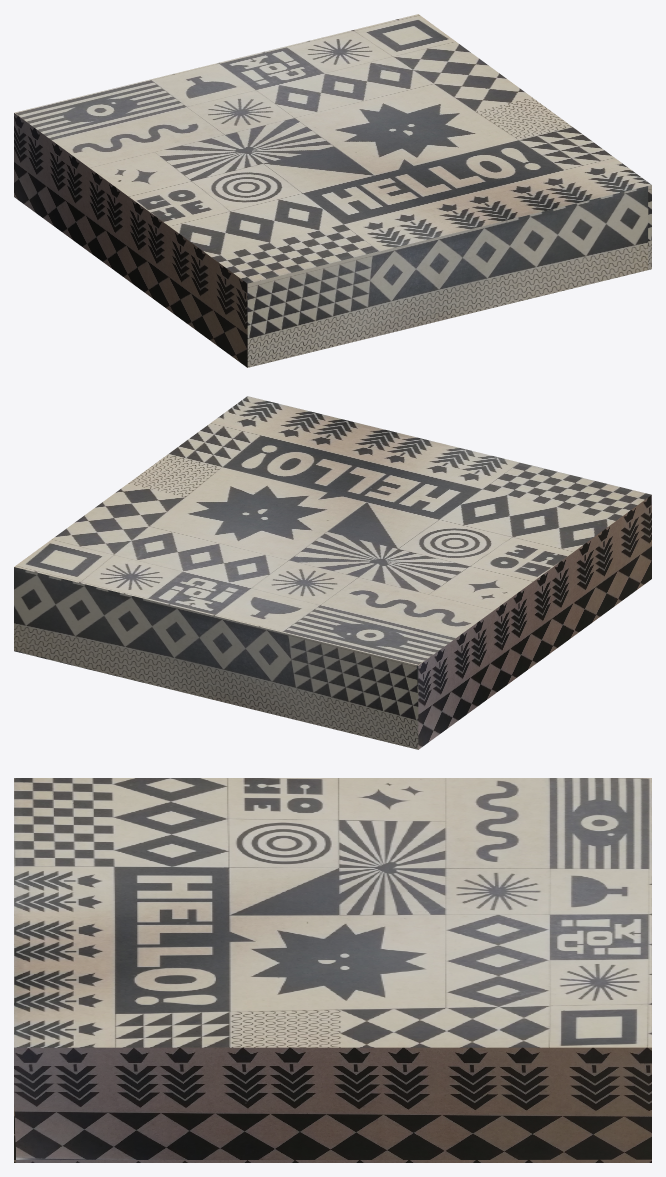
The model's file is lead.gltf.
3 views of the same model, one above another, from view 1: azimuth 30°, elevation 25°; view 2: azimuth 150°, elevation 25°; view 3: azimuth 270°, elevation 25° (orthographic). The views are drawn at different scales.
Visible parts, largest first — view 1: Lead; view 2: Lead; view 3: Lead.
Boxes of the visible parts, bbox=[...] form: Lead: bbox=[14, 14, 651, 367]; Lead: bbox=[14, 396, 651, 749]; Lead: bbox=[14, 778, 651, 1162].
Bounding box in the file's own units: 0.402 × 0.08 × 0.402.
4 materials, 3 textured.
